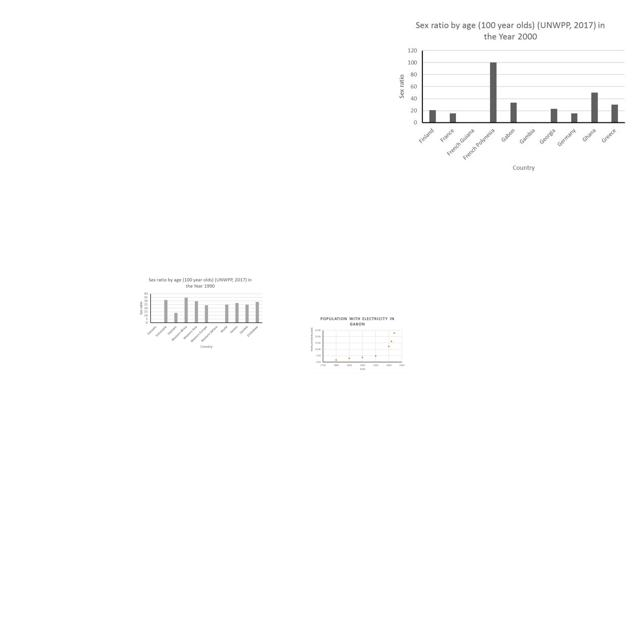Graph: (392, 17, 630, 178), (135, 275, 264, 350), (308, 314, 407, 374)
